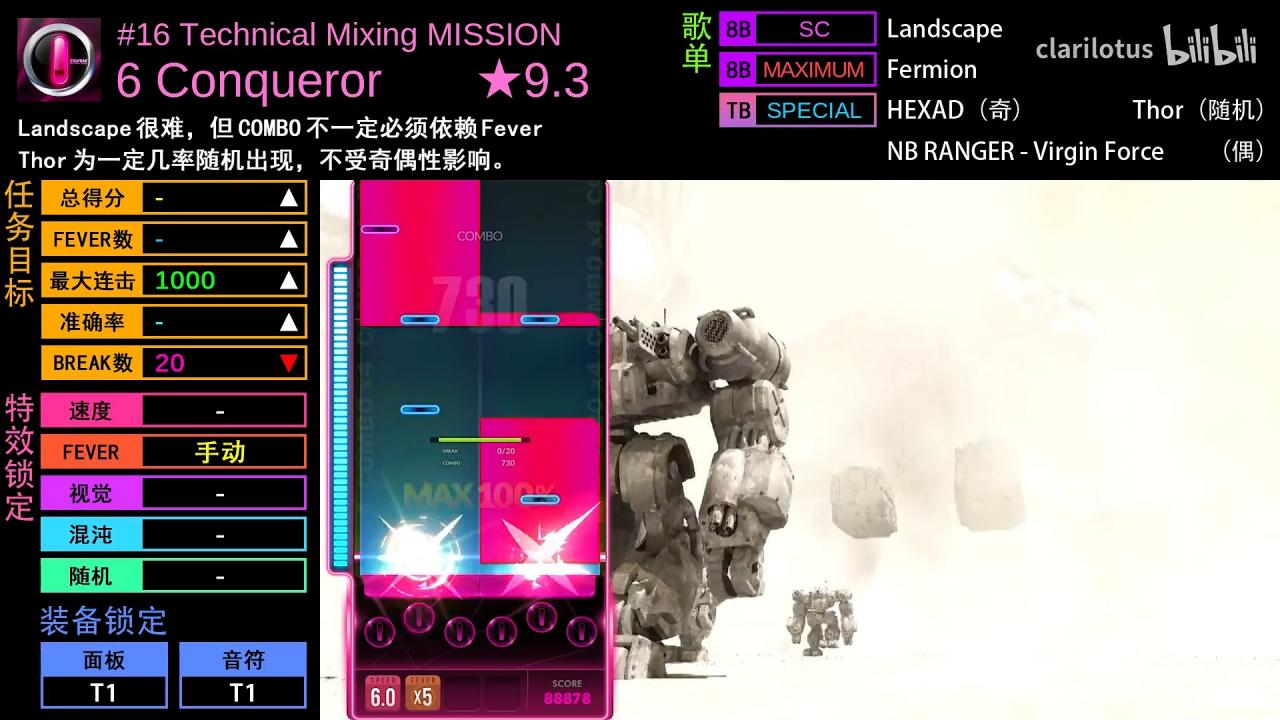note: (520, 313, 561, 326), (520, 494, 561, 505), (400, 404, 440, 415), (399, 314, 442, 324), (361, 224, 400, 234)
xend: (480, 417, 600, 432)
xnote: (480, 312, 600, 327)
xstart: (360, 312, 480, 327)
